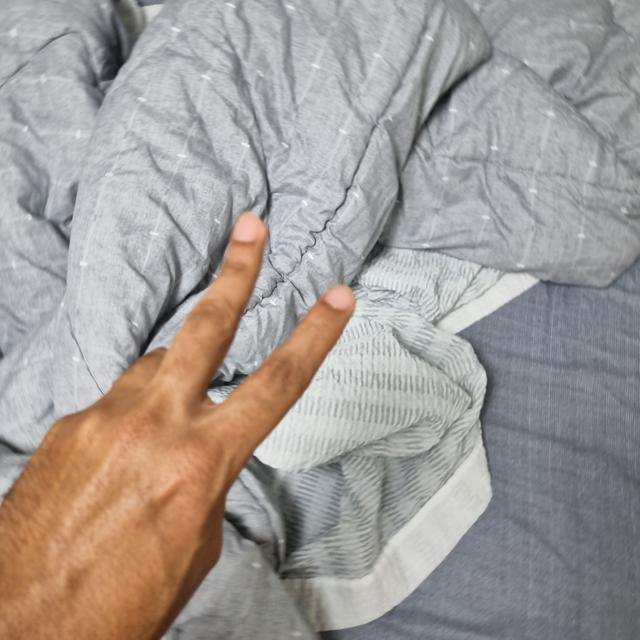Scissors: (0, 218, 351, 639)
